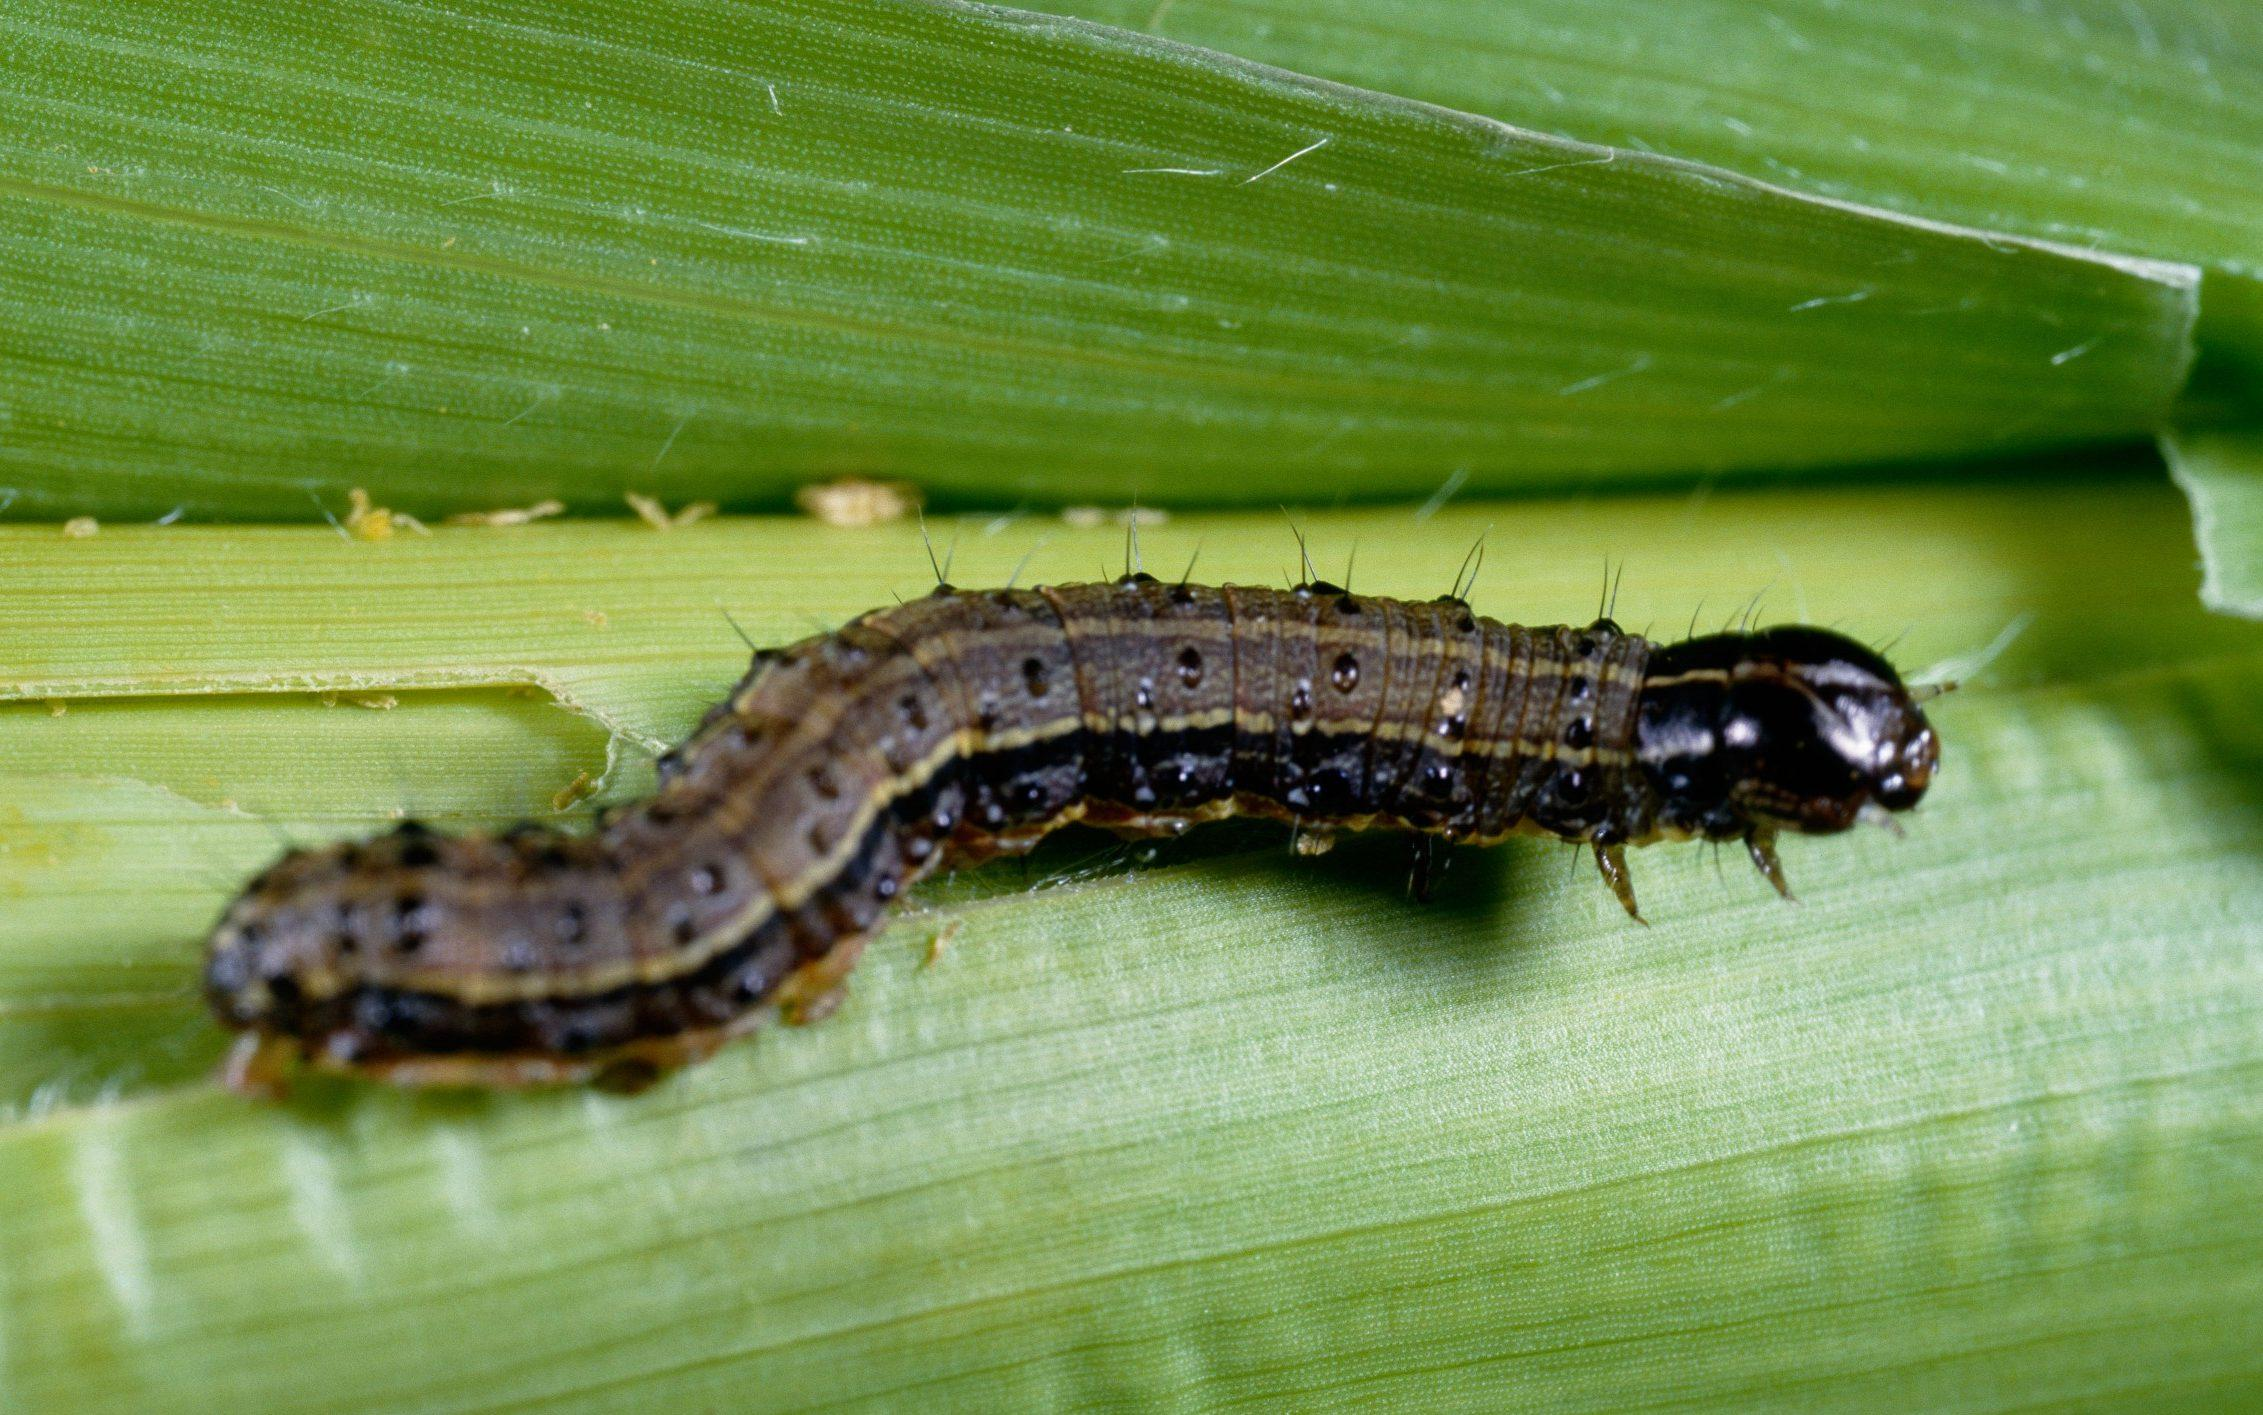Armyworm: (169, 598, 1856, 1183)
